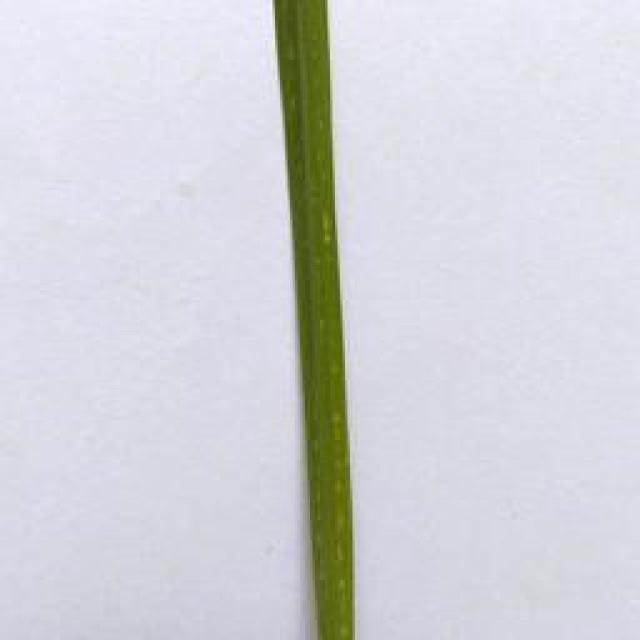Healthy-Plant: (264, 0, 361, 640)
